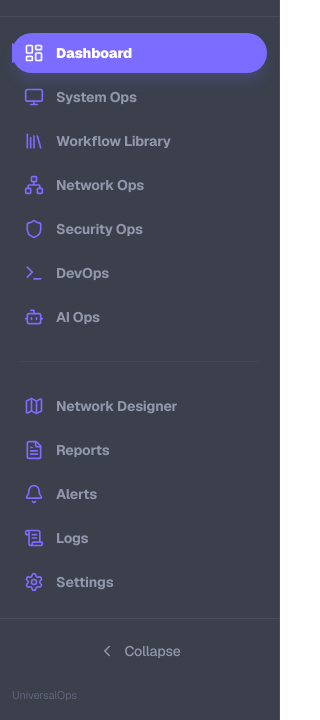
Test: Sidebar › collapses and expands when toggle is clicked
(page scrolled)
Step 1. Click the button with aria-label "Collapse sidebar" → (140, 651), box [12,631,267,671]
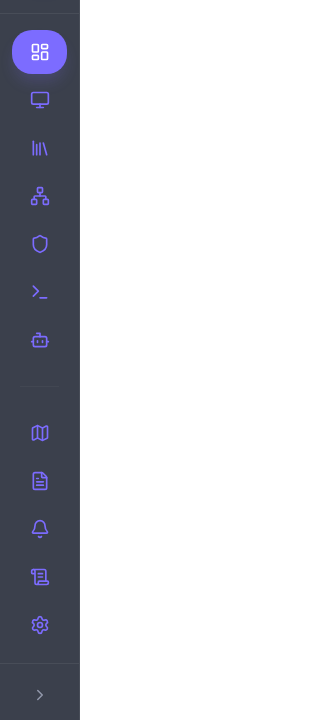
Now the button named "Expand sidebar" is shown, box [12,676,67,714]
